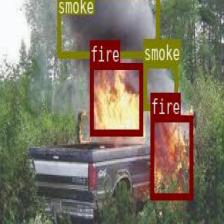fire: (90, 62, 142, 135), (150, 115, 192, 198)
smoke: (57, 0, 158, 57), (143, 61, 177, 109)
